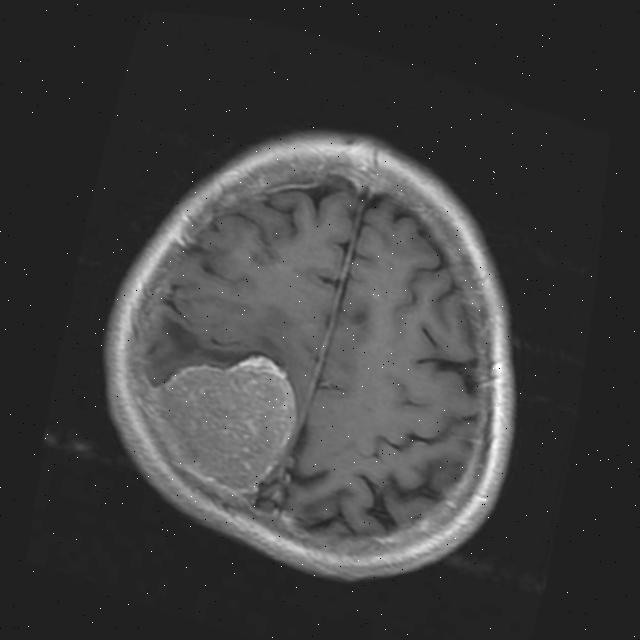Meningioma: (120, 319, 314, 519)
